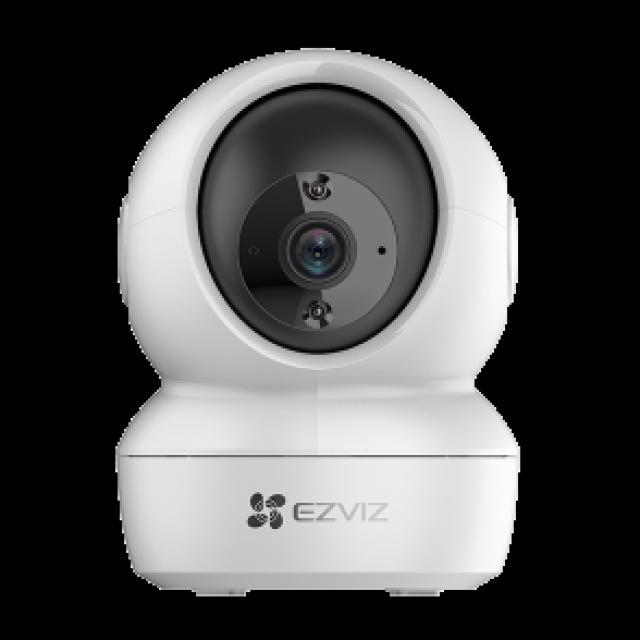hidden camera: (275, 211, 368, 290)
